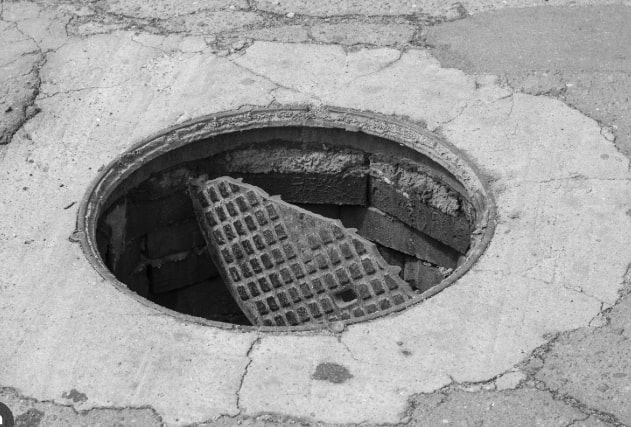open_manhole: (74, 93, 492, 329)
